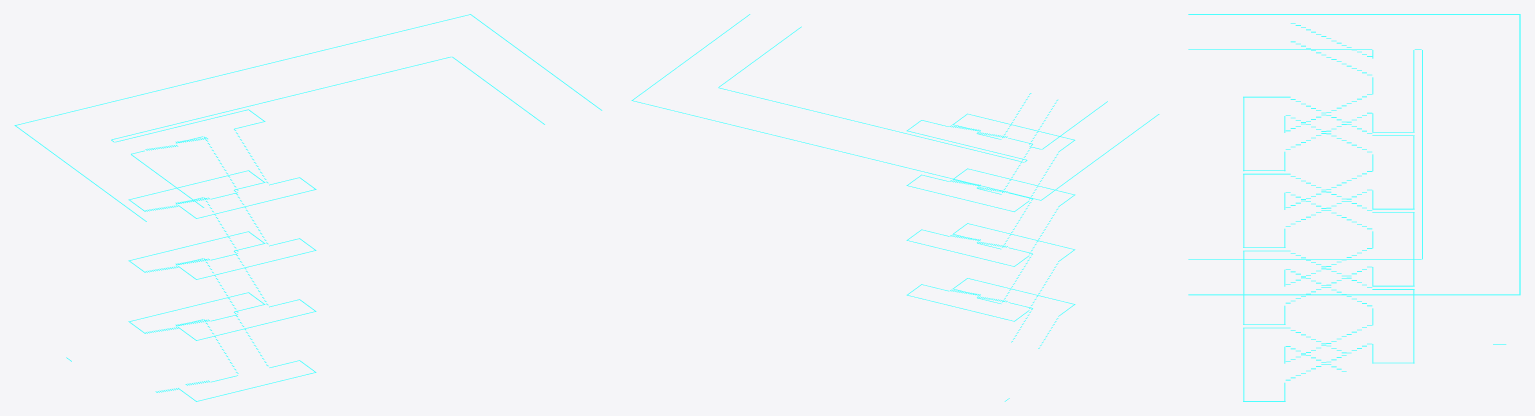
The model's file is v02-00-03-cyan.glb.
3 renders of one model, left to right at view 1: azimuth 30°, elevation 25°; view 2: azimuth 150°, elevation 25°; view 3: azimuth 270°, elevation 25°, orthographic. The views are drawn at different scales.
Parts seen in each view (by area): view 1: v02-00-03-cyan; view 2: v02-00-03-cyan; view 3: v02-00-03-cyan.
Boxes of the visible parts, left/top/right/bottom form: v02-00-03-cyan: left=14, top=14, right=602, bottom=401; v02-00-03-cyan: left=631, top=14, right=1159, bottom=401; v02-00-03-cyan: left=1188, top=14, right=1520, bottom=401.
Size of the model in its own units: 47 by 26.35 by 23.5.
